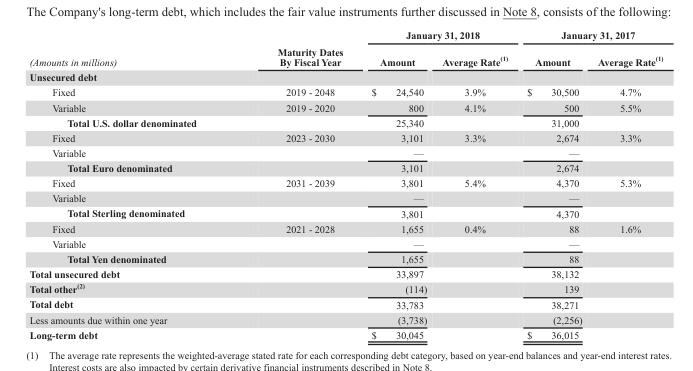table: (28, 29, 662, 340)
table column: (28, 29, 236, 340), (236, 29, 356, 340), (433, 29, 516, 340), (356, 29, 433, 340), (516, 29, 589, 340), (589, 29, 662, 340)
table column header: (28, 29, 662, 69)
table projected row header: (28, 69, 662, 84)
table row: (28, 47, 662, 69), (28, 29, 662, 47), (28, 129, 662, 145), (28, 250, 662, 266), (28, 280, 662, 296), (28, 69, 662, 84), (28, 84, 662, 99), (28, 99, 662, 114), (28, 114, 662, 129), (28, 145, 662, 160), (28, 160, 662, 175), (28, 175, 662, 190), (28, 190, 662, 205), (28, 205, 662, 220), (28, 220, 662, 235), (28, 235, 662, 250), (28, 296, 662, 311), (28, 311, 662, 326), (28, 266, 662, 280), (28, 326, 662, 340)
table spanning cell: (28, 29, 236, 69), (236, 29, 356, 69), (356, 29, 516, 47), (516, 29, 662, 47)
